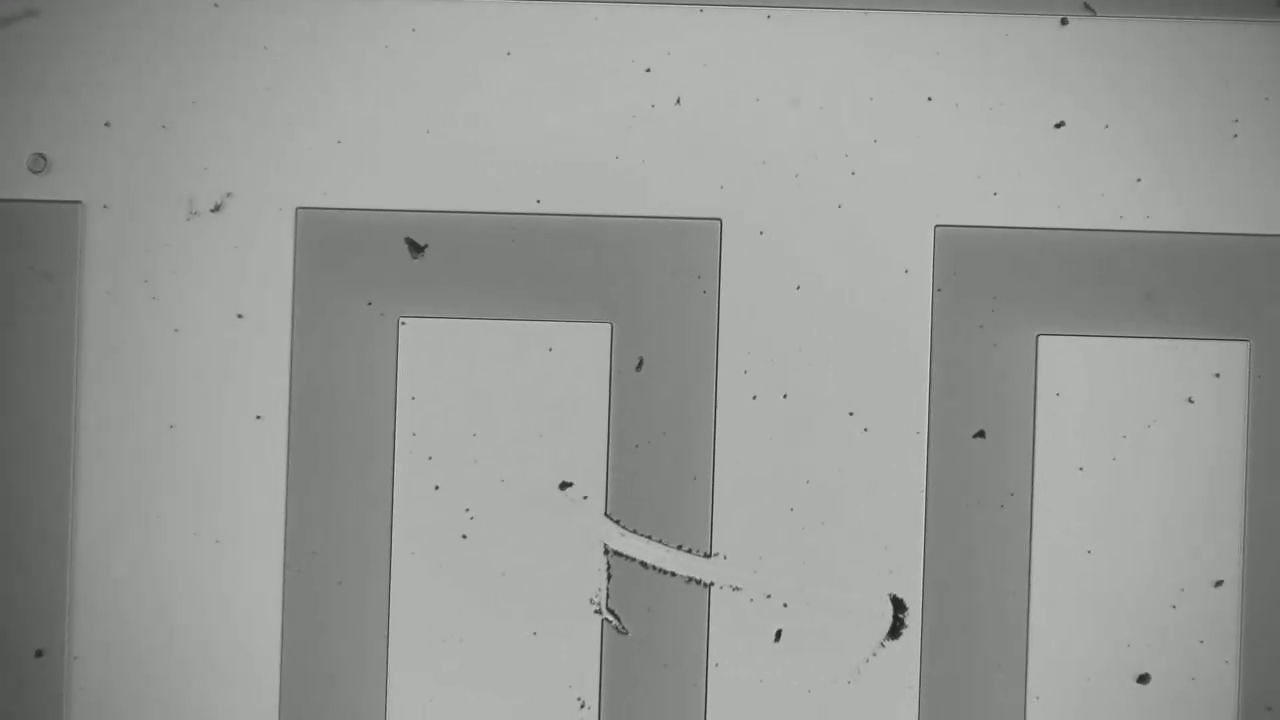Short_circuit: (586, 490, 765, 597)
